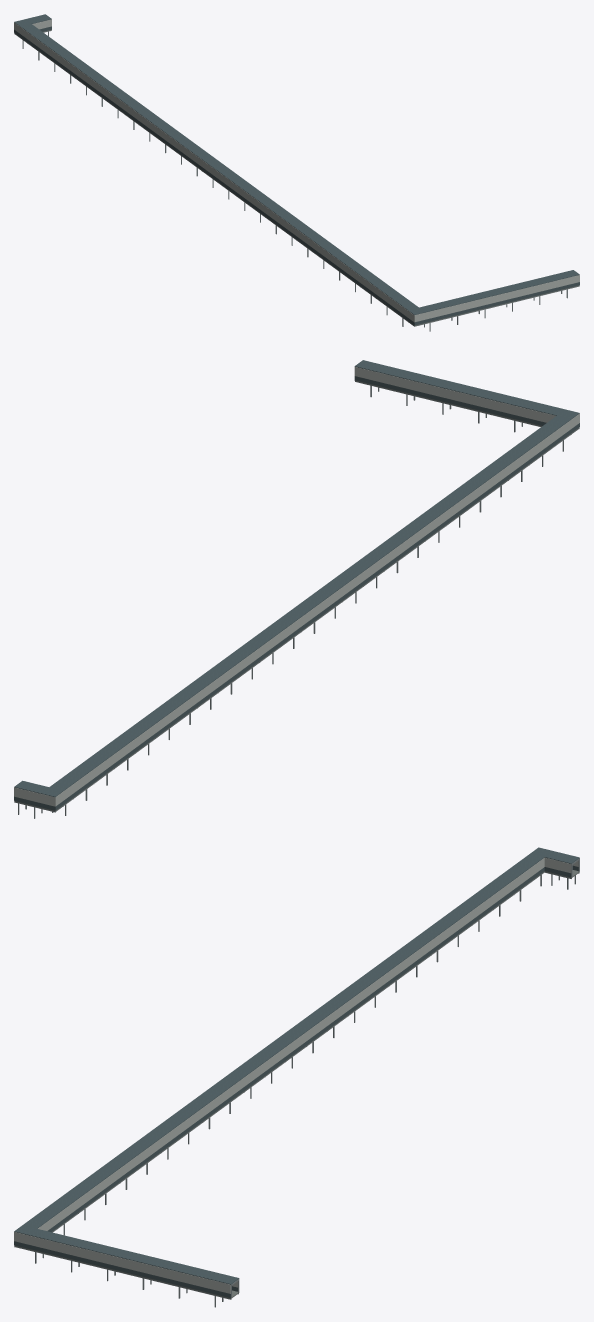
The model's file is LOWER_SHARED_AFT_STAFF_ROUTE_r001.glb.
3 views of the same model, one above another, from view 1: azimuth 30°, elevation 25°; view 2: azimuth 150°, elevation 25°; view 3: azimuth 330°, elevation 25° (orthographic). The views are drawn at different scales.
Visible parts, largest first — view 1: LSA_WallHigh4, LSA_Roof9, LSA_Roof10, LSA_WallLow4, LSA_WallHigh7, LSA_Roof3, LSA_WallLow7, LSA_Roof2, LSA_Floor9, LSA_FloorStringer0; view 2: LSA_WallHigh4, LSA_Roof9, LSA_Roof10, LSA_WallLow4, LSA_WallHigh9, LSA_Roof2, LSA_Roof3, LSA_WallLow9, LSA_Floor9, LSA_FloorStringer0; view 3: LSA_WallHigh10, LSA_Roof10, LSA_Roof9, LSA_WallLow10, LSA_WallHigh7, LSA_Roof3, LSA_WallLow7, LSA_Roof2, LSA_Floor10, LSA_FloorStringer1.
Boxes of the visible parts, <box> form: LSA_WallHigh4: <box>20,27,407,317</box>; LSA_Roof9: <box>20,24,407,310</box>; LSA_Roof10: <box>39,29,418,309</box>; LSA_WallLow4: <box>20,34,407,320</box>; LSA_WallHigh7: <box>425,275,579,319</box>; LSA_Roof3: <box>425,270,579,312</box>; LSA_WallLow7: <box>425,282,579,322</box>; LSA_Roof2: <box>419,271,568,311</box>; LSA_Floor9: <box>21,38,407,321</box>; LSA_FloorStringer0: <box>15,34,415,326</box>; LSA_WallHigh4: <box>64,419,571,799</box>; LSA_Roof9: <box>49,419,570,790</box>; LSA_Roof10: <box>54,415,570,783</box>; LSA_WallLow4: <box>64,429,571,804</box>; LSA_WallHigh9: <box>354,367,555,422</box>; LSA_Roof2: <box>354,366,564,415</box>; LSA_Roof3: <box>355,360,561,408</box>; LSA_WallLow9: <box>354,376,546,425</box>; LSA_Floor9: <box>63,433,571,805</box>; LSA_FloorStringer0: <box>54,429,578,812</box>; LSA_WallHigh10: <box>38,858,544,1230</box>; LSA_Roof10: <box>23,857,544,1228</box>; LSA_Roof9: <box>29,853,543,1220</box>; LSA_WallLow10: <box>47,867,544,1232</box>; LSA_WallHigh7: <box>28,1235,230,1293</box>; LSA_Roof3: <box>29,1235,239,1284</box>; LSA_WallLow7: <box>28,1244,230,1297</box>; LSA_Roof2: <box>29,1229,236,1277</box>; LSA_Floor10: <box>52,871,544,1232</box>; LSA_FloorStringer1: <box>27,872,544,1250</box>.
Size of the model in its own units: 54.42 by 6.54 by 228.
5 materials, 5 textured.
